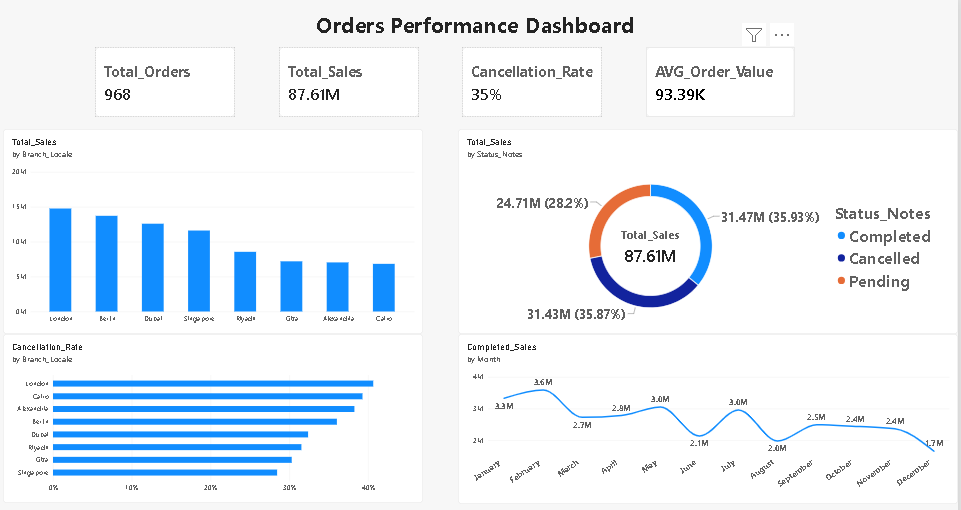

The dashboard page shown, as its layout file describes it:
{"tool":"powerbi","page":{"name":"Page 1","canvas":[1920,1080],"ordinal":0},"visuals":[{"type":"cardVisual","fields":{"Data":["_Measures.Total_Sales"]},"box":[204.3,123,281.5,112.6],"z":0},{"type":"cardVisual","fields":{"Data":["_Measures.Total_Orders"]},"box":[571.3,123,279.4,114.7],"z":1000},{"type":"cardVisual","fields":{"Data":["_Measures.Cancellation_Rate"]},"box":[932,123,281.5,112.6],"z":2000},{"type":"cardVisual","fields":{"Data":["_Measures.AVG_Order_Value"]},"box":[1301,123,296.1,112.6],"z":3000},{"type":"columnChart","fields":{"Category":["Fact_Sales.Branch_Locale"],"Y":["_Measures.Total_Sales"]},"box":[25,260.6,840,410],"z":4000},{"type":"donutChart","fields":{"Category":["Fact_Sales.Status_Notes"],"Y":["_Measures.Total_Sales"]},"box":[900.7,260.6,1000.8,410.7],"z":5000},{"type":"barChart","fields":{"Category":["Fact_Sales.Branch_Locale"],"Y":["_Measures.Cancellation_Rate"]},"box":[25,694.3,840,338],"z":6000},{"type":"lineChart","fields":{"Category":["Fact_Sales.Date.Variation.Date Hierarchy.Month"],"Y":["_Measures.Completed_Sales"]},"box":[900.7,694.3,1000,340],"z":7000},{"type":"textbox","box":[10,20,1890,100],"z":8000}]}

Visuals, with their boxes on the page's 1920x1080 design canvas (x1, y1, x2, y2). These are canvas units, not pixel positions in the 961x510 screenshot, which may show the page scaled, cropped or inside an application window:
cardVisual - _Measures.Total_Sales: 204, 123, 486, 236
cardVisual - _Measures.Total_Orders: 571, 123, 851, 238
cardVisual - _Measures.Cancellation_Rate: 932, 123, 1214, 236
cardVisual - _Measures.AVG_Order_Value: 1301, 123, 1597, 236
columnChart - Fact_Sales.Branch_Locale x _Measures.Total_Sales: 25, 261, 865, 671
donutChart - Fact_Sales.Status_Notes x _Measures.Total_Sales: 901, 261, 1902, 671
barChart - Fact_Sales.Branch_Locale x _Measures.Cancellation_Rate: 25, 694, 865, 1032
lineChart - Fact_Sales.Date.Variation.Date Hierarchy.Month x _Measures.Completed_Sales: 901, 694, 1901, 1034
textbox: 10, 20, 1900, 120
